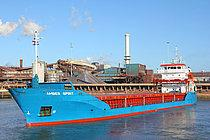Ship: (3, 43, 202, 130)
